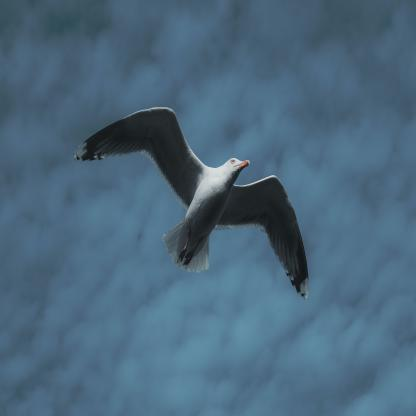bird: (70, 80, 323, 322)
